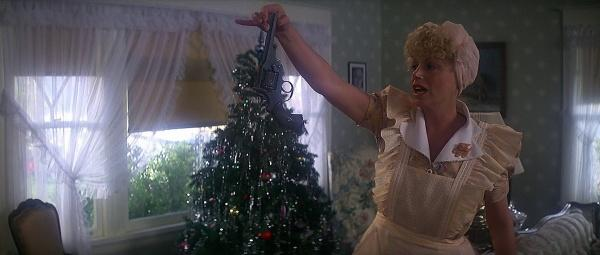Gun: (250, 12, 303, 135)
